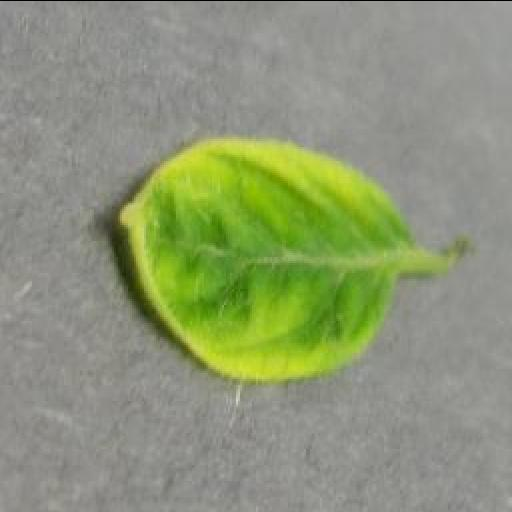disease_tomato: (121, 136, 407, 381)
